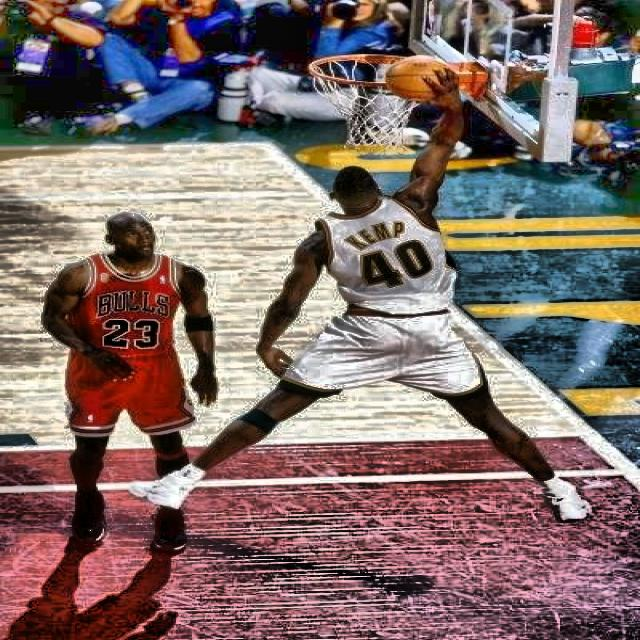board: (39, 210, 220, 553)
rim: (306, 51, 424, 150)
